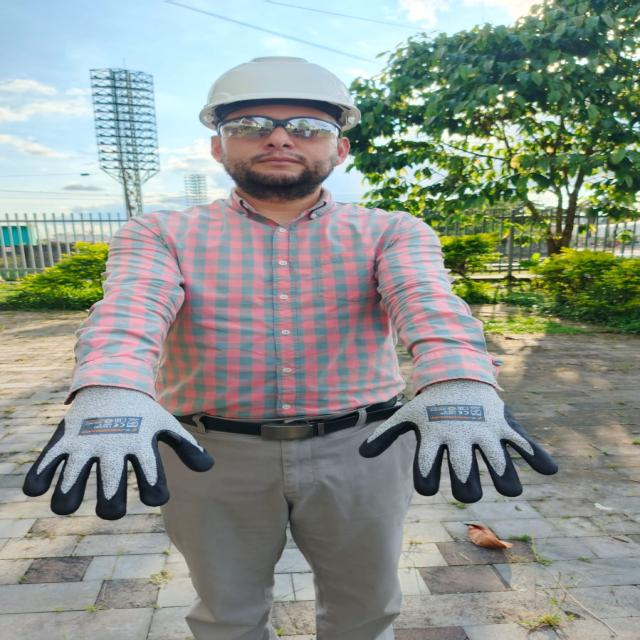gloves: (23, 387, 214, 520), (360, 380, 557, 503)
helmet: (204, 56, 357, 110)
protective_glasses: (218, 116, 340, 139)
